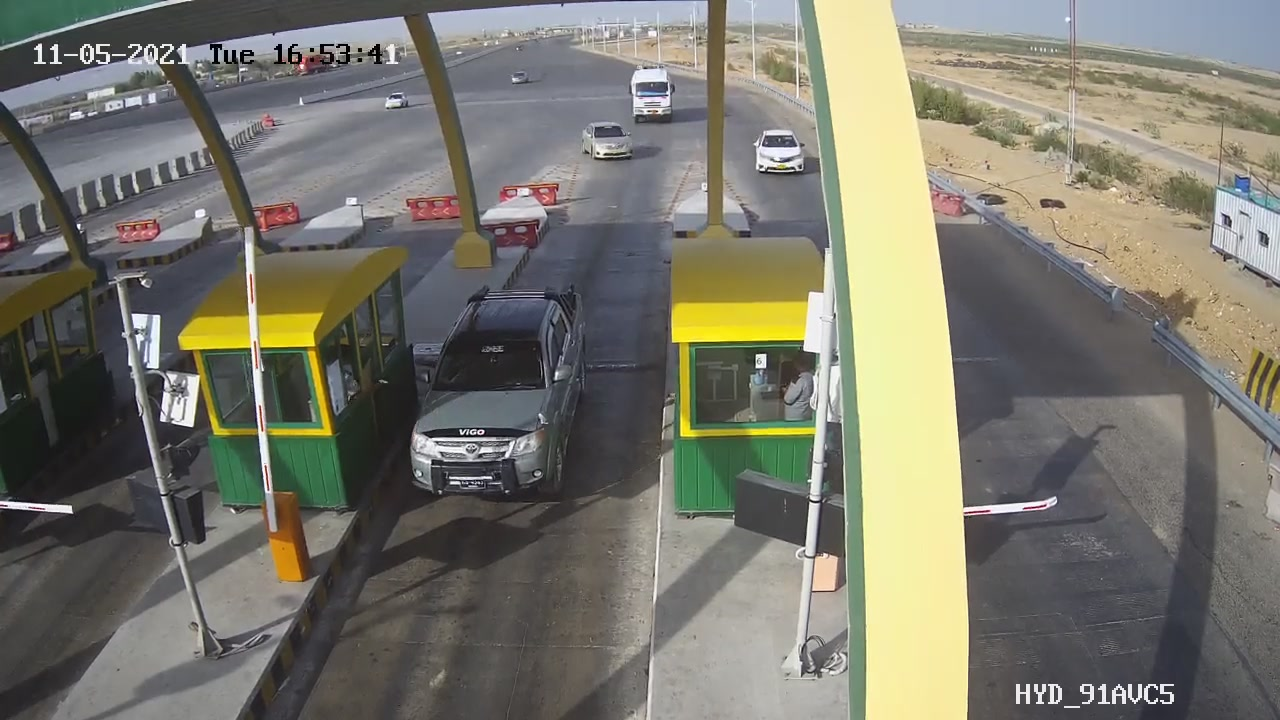F1: (389, 269, 607, 521)
